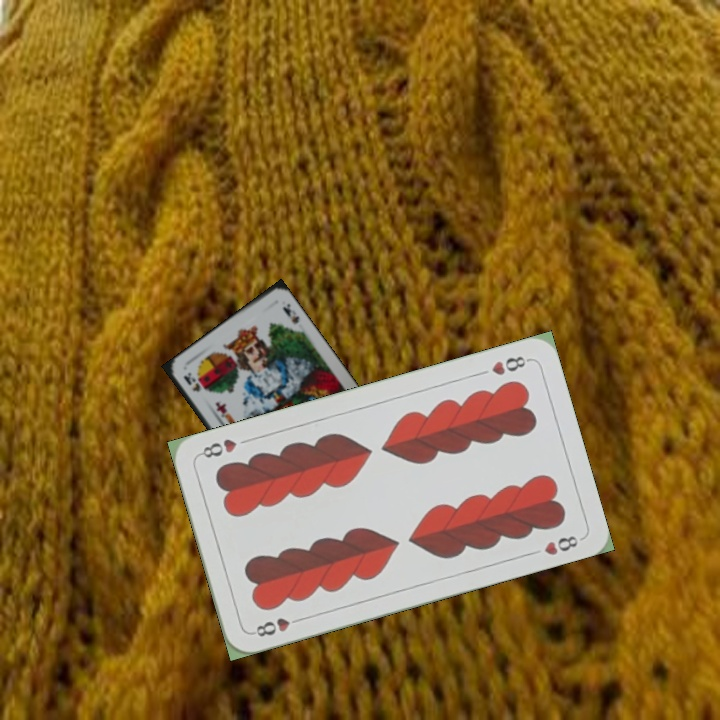H8: (248, 613, 306, 640), (487, 352, 533, 378)
SK: (179, 368, 203, 395)
